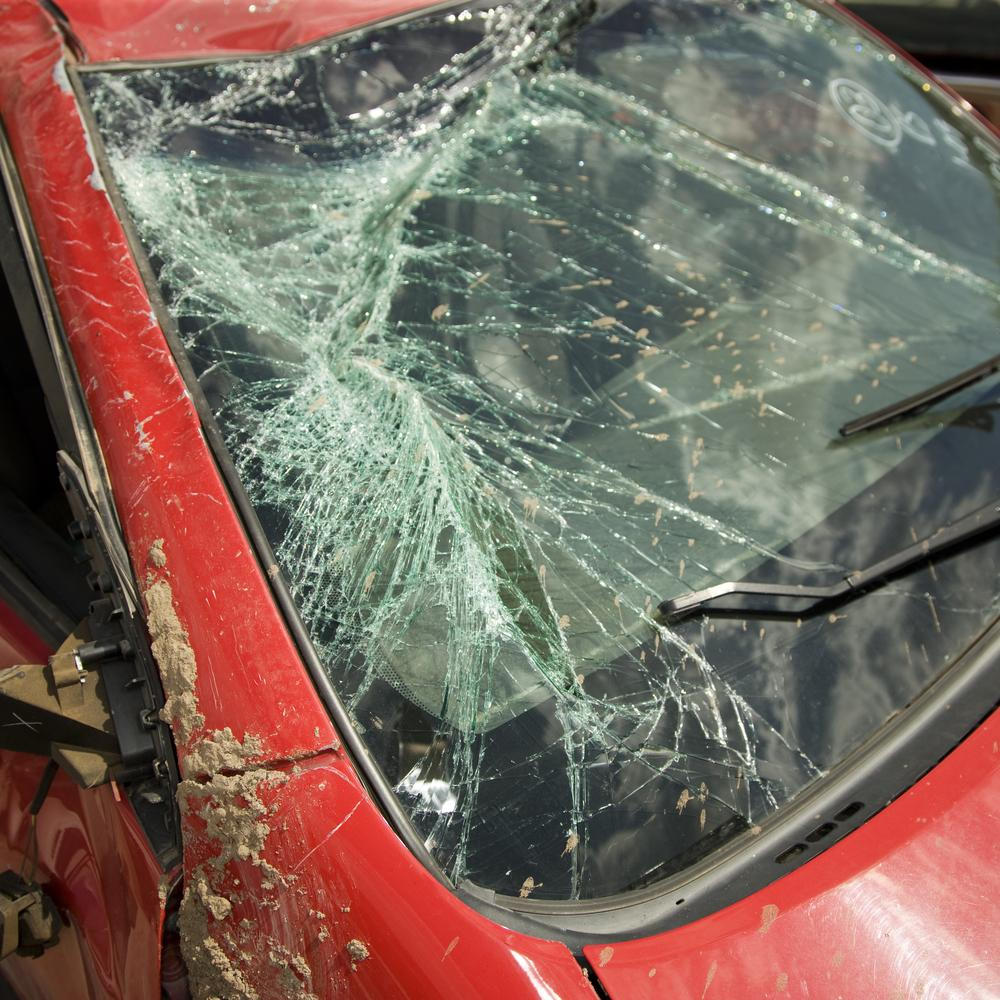glass shatter: (77, 0, 1000, 902)
